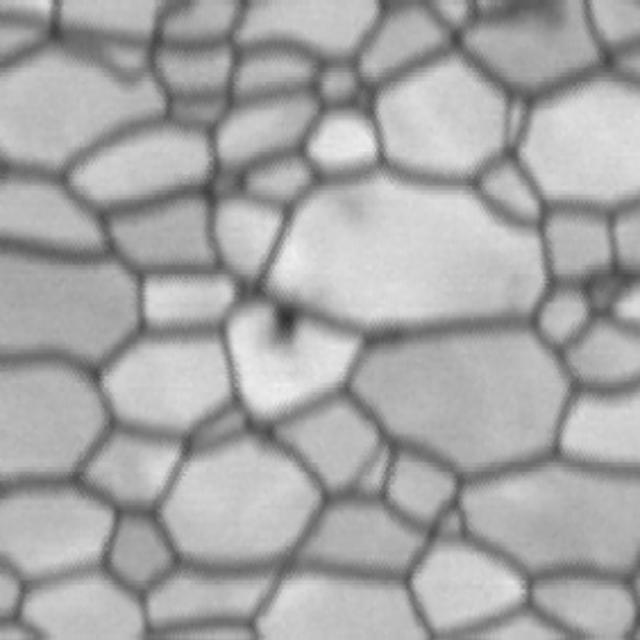good_void: (264, 293, 310, 357)
